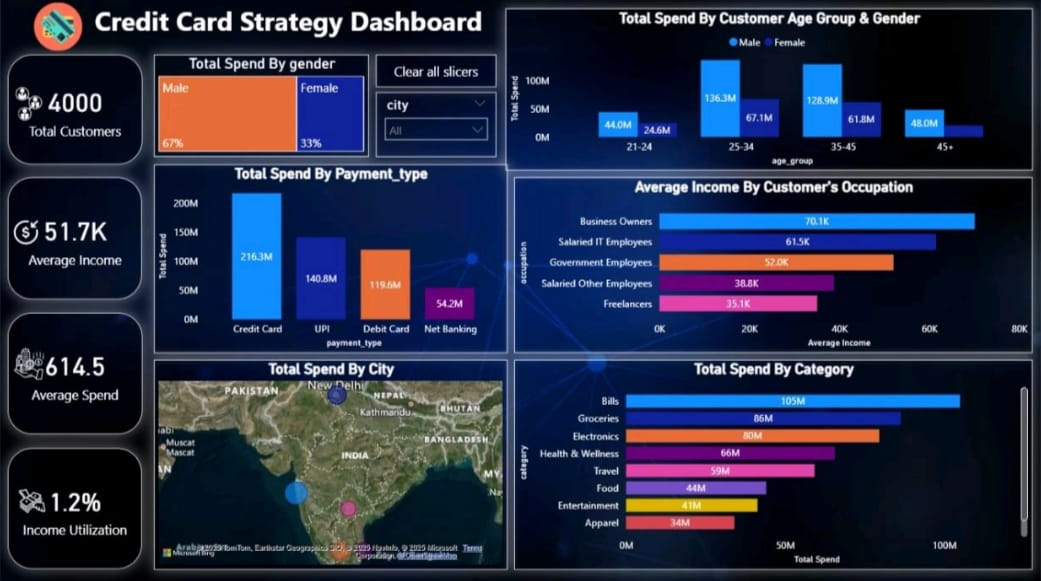

Layout of this report page (visuals, bound fields, positions):
{"tool":"powerbi","page":{"name":"Credit Card Strategy Dashboard","canvas":[1280,720],"ordinal":0},"visuals":[{"type":"textbox","box":[79.6,0,541.7,59.1],"z":0},{"type":"card","fields":{"Values":["dim_customers Table.Average Income"]},"box":[9.8,220.1,165.1,150.4],"z":1000},{"type":"card","fields":{"Values":["fact_spends Table.Average Spend"]},"box":[9.7,386.1,165.3,149.6],"z":2000},{"type":"card","fields":{"Values":["fact_spends Table.Income Utilization"]},"box":[9.8,552.7,165.1,149.2],"z":3000},{"type":"card","fields":{"Values":["dim_customers Table.Total Customers"]},"box":[9.7,68.8,165.3,135.1],"z":4000},{"type":"columnChart","title":"Total Spend By Payment_type ","fields":{"Category":["fact_spends Table.payment_type"],"Series":["fact_spends Table.payment_type"],"Y":["fact_spends Table.Total Spend"]},"box":[189.4,203.9,434.3,231.6],"z":5000},{"type":"image","box":[15.7,0,112.2,68.8],"z":6000},{"type":"barChart","title":"Average Income By Customer''s Occupation ","fields":{"Category":["dim_customers Table.occupation"],"Series":["dim_customers Table.occupation"],"Y":["dim_customers Table.Average Income"]},"box":[632.2,219.6,637,216],"z":7000},{"type":"treemap","title":"Total Spend By gender","fields":{"Group":["dim_customers Table.gender"],"Values":["fact_spends Table.Total Spend"]},"box":[189.4,68.8,264.2,125.5],"z":8000},{"type":"clusteredColumnChart","title":"Total Spend By Customer Age Group & Gender","fields":{"Category":["dim_customers Table.age_group"],"Series":["dim_customers Table.gender"],"Y":["fact_spends Table.Total Spend"]},"box":[621.3,12.1,647.9,199.1],"z":9000},{"type":"barChart","title":"Total Spend By Category ","fields":{"Category":["fact_spends Table.category"],"Series":["fact_spends Table.category"],"Y":["fact_spends Table.Total Spend"]},"box":[632.2,444,637,258.2],"z":10000},{"type":"actionButton","box":[462.1,68.8,148.4,39.8],"z":11000},{"type":"map","title":"Total Spend By City","fields":{"Category":["dim_customers Table.city"],"Size":["fact_spends Table.Total Spend"],"Series":["dim_customers Table.city"]},"box":[189.4,444,434.3,258.2],"z":12000},{"type":"image","box":[0,68.8,71.2,125.5],"z":13000},{"type":"image","box":[9.7,254.6,44.6,65.1],"z":14000},{"type":"image","box":[0,423.5,71.2,50.7],"z":15000},{"type":"image","box":[0,596,79.6,42.2],"z":16000},{"type":"slicer","fields":{"Values":["dim_customers Table.city"]},"box":[462.1,114.6,148.4,79.6],"z":18000}]}

Visuals, with their boxes in screenshot pixels (x1, y1, x2, y2), scaled from the page's 1280x720 canvas onto the 1041x581 screenshot:
textbox: pyautogui.locateOnScreen(65, 0, 505, 48)
card - dim_customers Table.Average Income: pyautogui.locateOnScreen(8, 178, 142, 299)
card - fact_spends Table.Average Spend: pyautogui.locateOnScreen(8, 312, 142, 432)
card - fact_spends Table.Income Utilization: pyautogui.locateOnScreen(8, 446, 142, 566)
card - dim_customers Table.Total Customers: pyautogui.locateOnScreen(8, 56, 142, 165)
"Total Spend By Payment_type " columnChart: pyautogui.locateOnScreen(154, 165, 507, 351)
image: pyautogui.locateOnScreen(13, 0, 104, 56)
"Average Income By Customer''s Occupation " barChart: pyautogui.locateOnScreen(514, 177, 1032, 352)
"Total Spend By gender" treemap: pyautogui.locateOnScreen(154, 56, 369, 157)
"Total Spend By Customer Age Group & Gender" clusteredColumnChart: pyautogui.locateOnScreen(505, 10, 1032, 170)
"Total Spend By Category " barChart: pyautogui.locateOnScreen(514, 358, 1032, 567)
actionButton: pyautogui.locateOnScreen(376, 56, 497, 88)
"Total Spend By City" map: pyautogui.locateOnScreen(154, 358, 507, 567)
image: pyautogui.locateOnScreen(0, 56, 58, 157)
image: pyautogui.locateOnScreen(8, 205, 44, 258)
image: pyautogui.locateOnScreen(0, 342, 58, 383)
image: pyautogui.locateOnScreen(0, 481, 65, 515)
slicer - dim_customers Table.city: pyautogui.locateOnScreen(376, 92, 497, 157)
